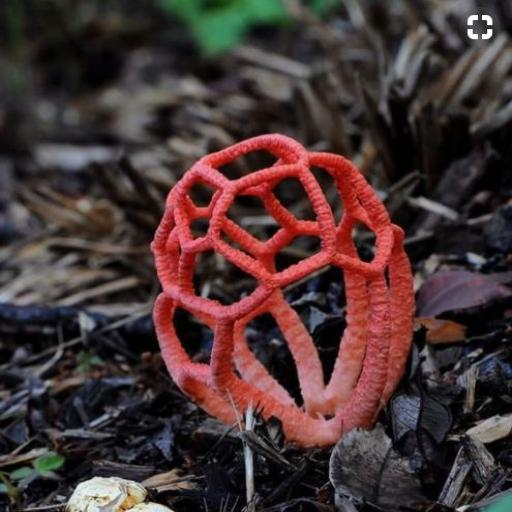Red Cage Fungus: (107, 103, 468, 469)
